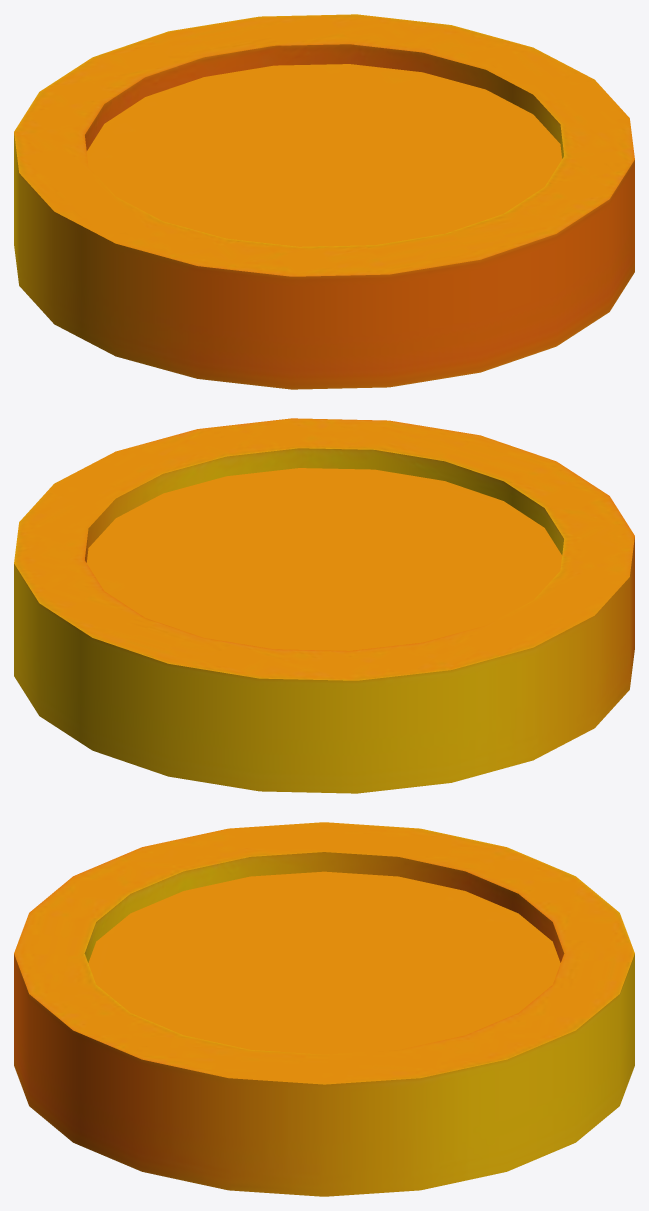
File: gold-coin.glb
3 renders of one model, top to bottom at view 1: azimuth 30°, elevation 25°; view 2: azimuth 150°, elevation 25°; view 3: azimuth 270°, elevation 25°, orthographic.
Size of the model in its own units: 1 by 0.1994 by 1.
1 material, 1 textured.
